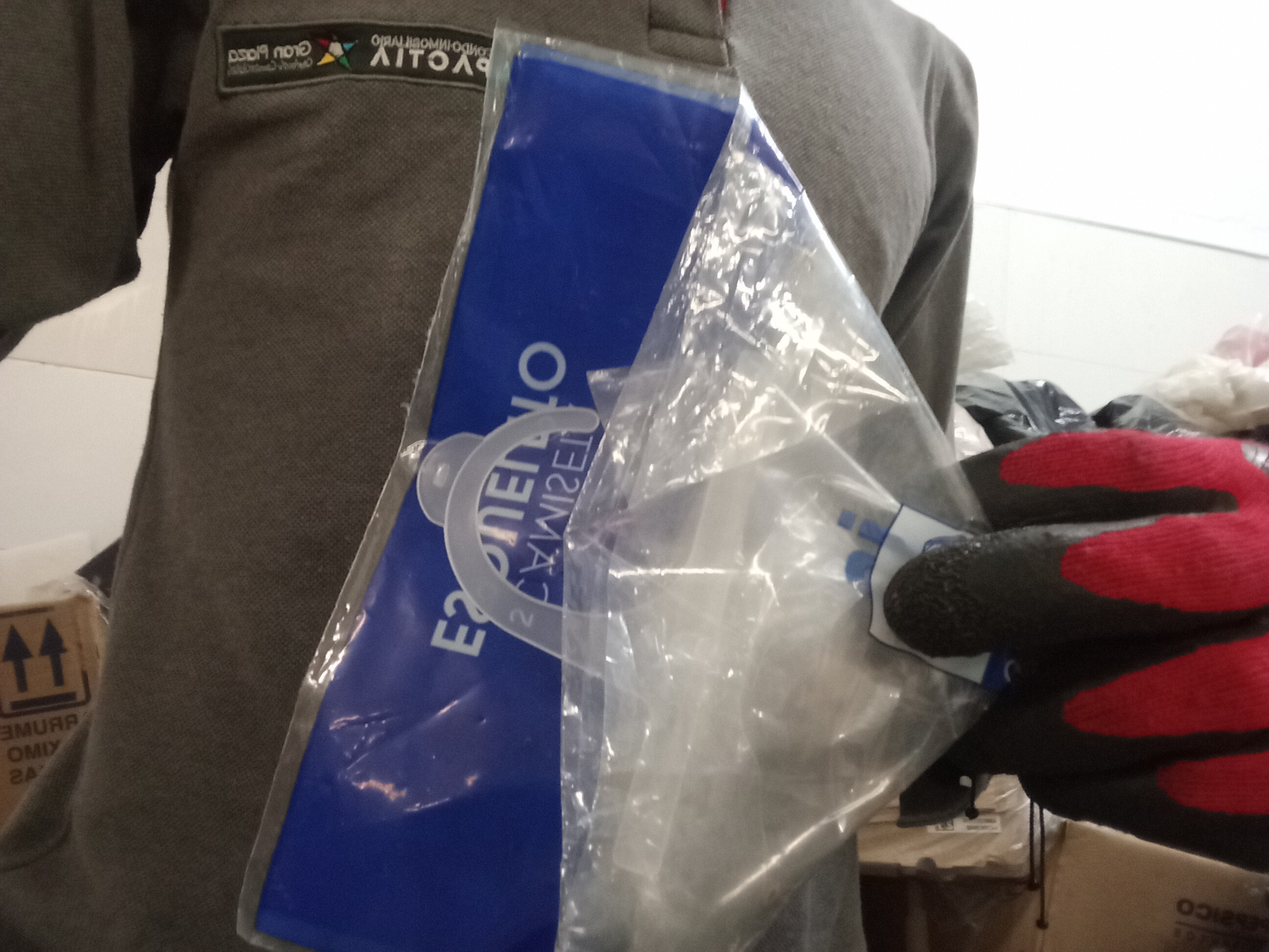Ordinario: (235, 24, 989, 952)
